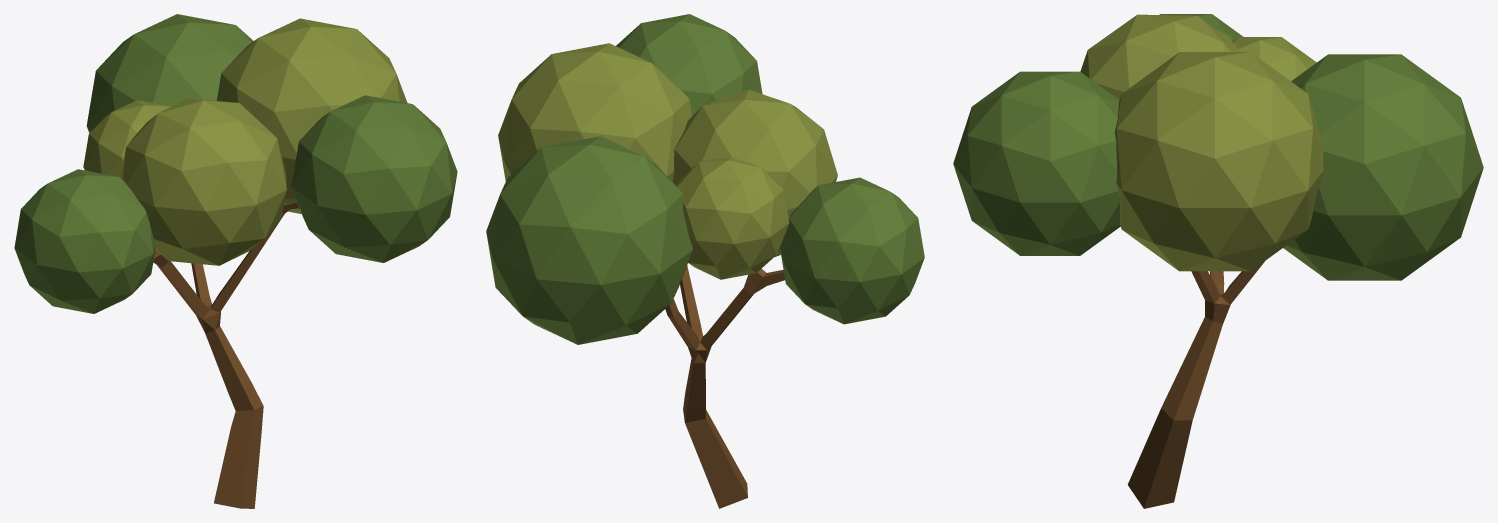
File: tree1.glb
The picture shows the model from 3 angles, left to right: view 1: azimuth 30°, elevation 25°; view 2: azimuth 150°, elevation 25°; view 3: azimuth 270°, elevation 25°; orthographic projection. The views are drawn at different scales.
Parts seen in each view (by area): view 1: Icosphere.004, Icosphere.001, Icosphere, Icosphere.005, Icosphere.003, Cube, Icosphere.002; view 2: Icosphere.003, Icosphere.005, Icosphere, Icosphere.001, Icosphere.002, Icosphere.004, Cube; view 3: Icosphere.005, Icosphere.003, Icosphere.004, Cube, Icosphere.001, Icosphere.002.
Part boxes in pixels (x1,y1,x2,y2): Icosphere.004: [291, 95, 457, 262]; Icosphere.001: [121, 98, 286, 265]; Icosphere: [14, 169, 155, 313]; Icosphere.005: [216, 18, 407, 213]; Icosphere.003: [86, 14, 253, 132]; Cube: [153, 202, 299, 508]; Icosphere.002: [83, 100, 170, 178]; Icosphere.003: [486, 136, 692, 344]; Icosphere.005: [498, 43, 692, 181]; Icosphere: [780, 177, 924, 324]; Icosphere.001: [672, 89, 837, 256]; Icosphere.002: [676, 157, 789, 279]; Icosphere.004: [616, 14, 762, 115]; Cube: [665, 265, 785, 508]; Icosphere.005: [1114, 52, 1323, 271]; Icosphere.003: [1283, 54, 1483, 280]; Icosphere.004: [953, 71, 1120, 255]; Cube: [1127, 261, 1264, 508]; Icosphere.001: [1080, 14, 1239, 99]; Icosphere.002: [1232, 37, 1316, 80].
Size of the model in its own units: 10.49 by 11.55 by 11.07.
